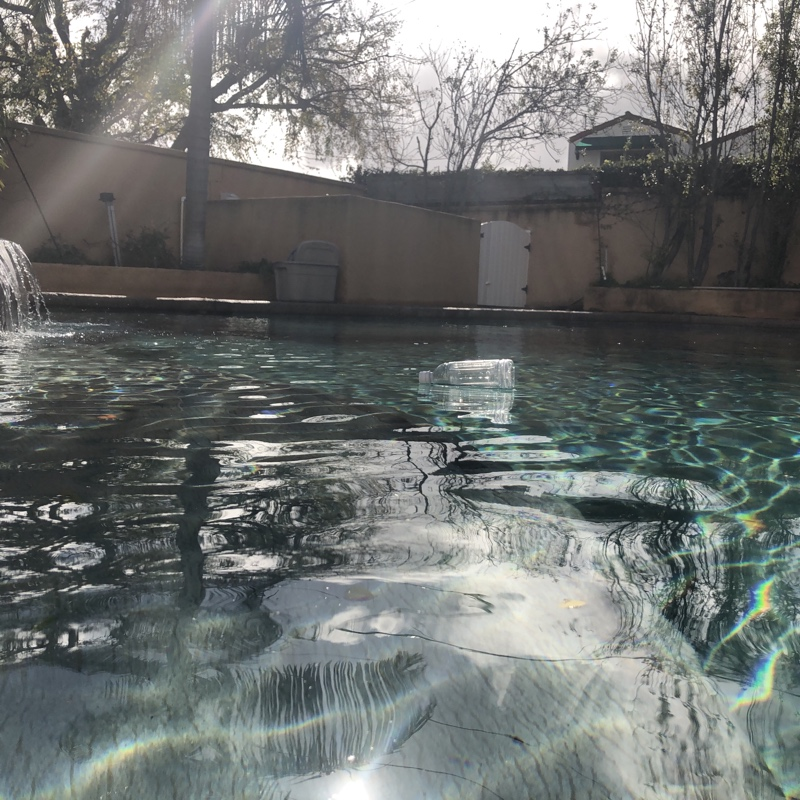Plastic Bottle: (414, 356, 517, 392)
